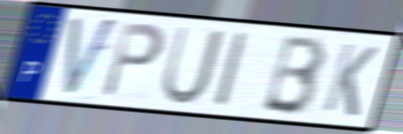B: (258, 34, 329, 118)
I: (212, 29, 251, 111)
K: (320, 40, 381, 120)
P: (99, 20, 167, 101)
U: (158, 24, 228, 108)
V: (61, 14, 122, 101)
